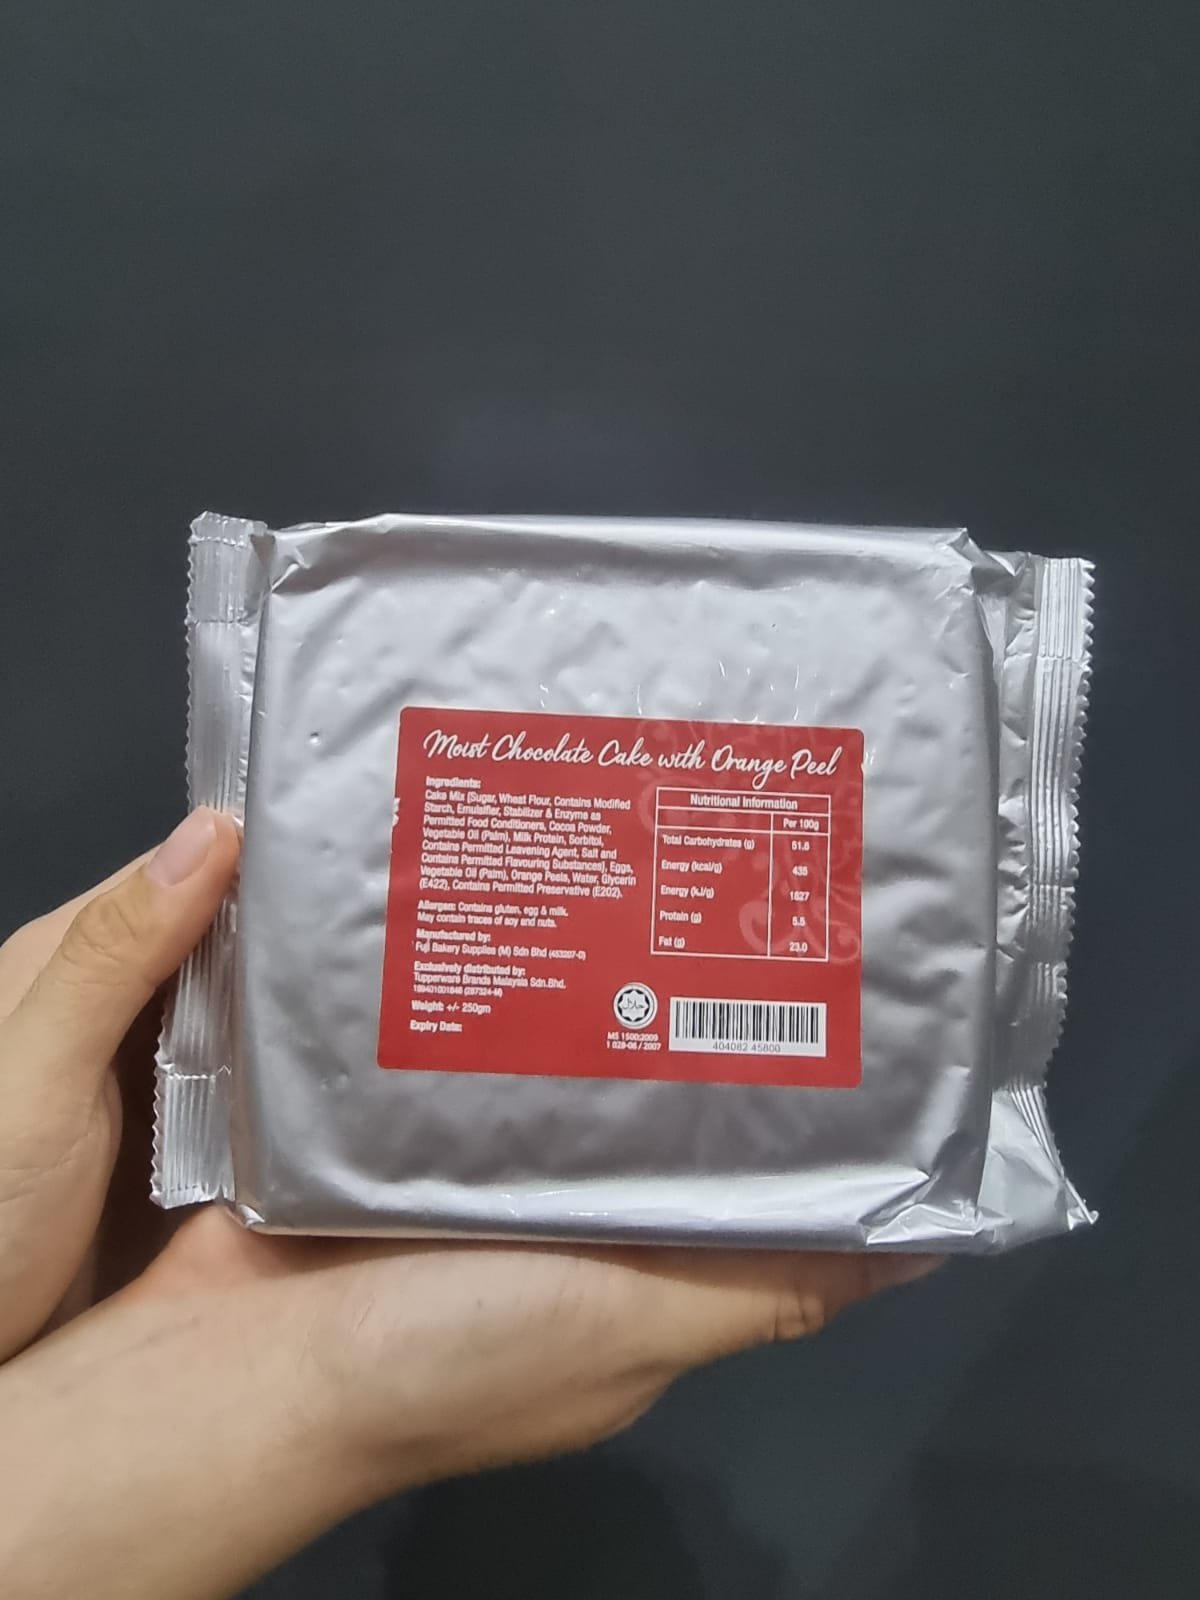Biscuits: (261, 583, 1013, 1191)
